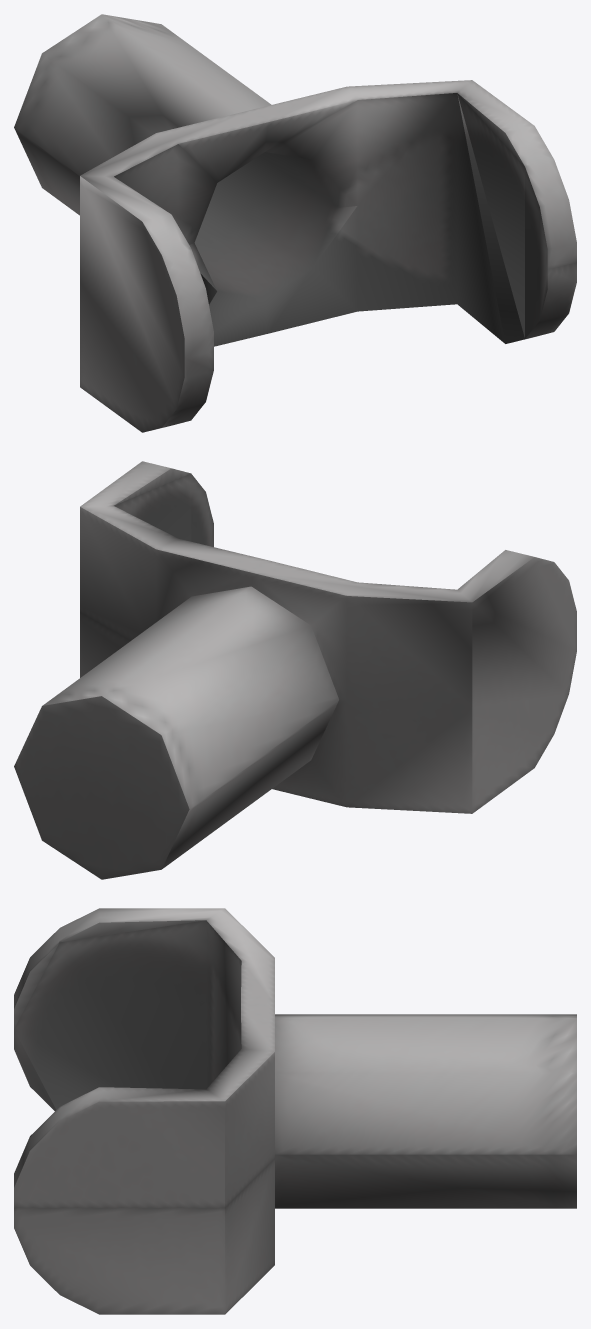
File: l_scap.dae
The picture shows the model from 3 angles, top to bottom: view 1: azimuth 30°, elevation 25°; view 2: azimuth 150°, elevation 25°; view 3: azimuth 270°, elevation 25°; orthographic projection.
Parts seen in each view (by area): view 1: p43153_1; view 2: p43153_1; view 3: p43153_1.
Boxes of the visible parts, bbox=[...] form: p43153_1: bbox=[14, 14, 576, 432]; p43153_1: bbox=[14, 461, 576, 879]; p43153_1: bbox=[14, 908, 576, 1314].
Bounding box in the file's own units: 0.187 × 0.2303 × 0.0963.
